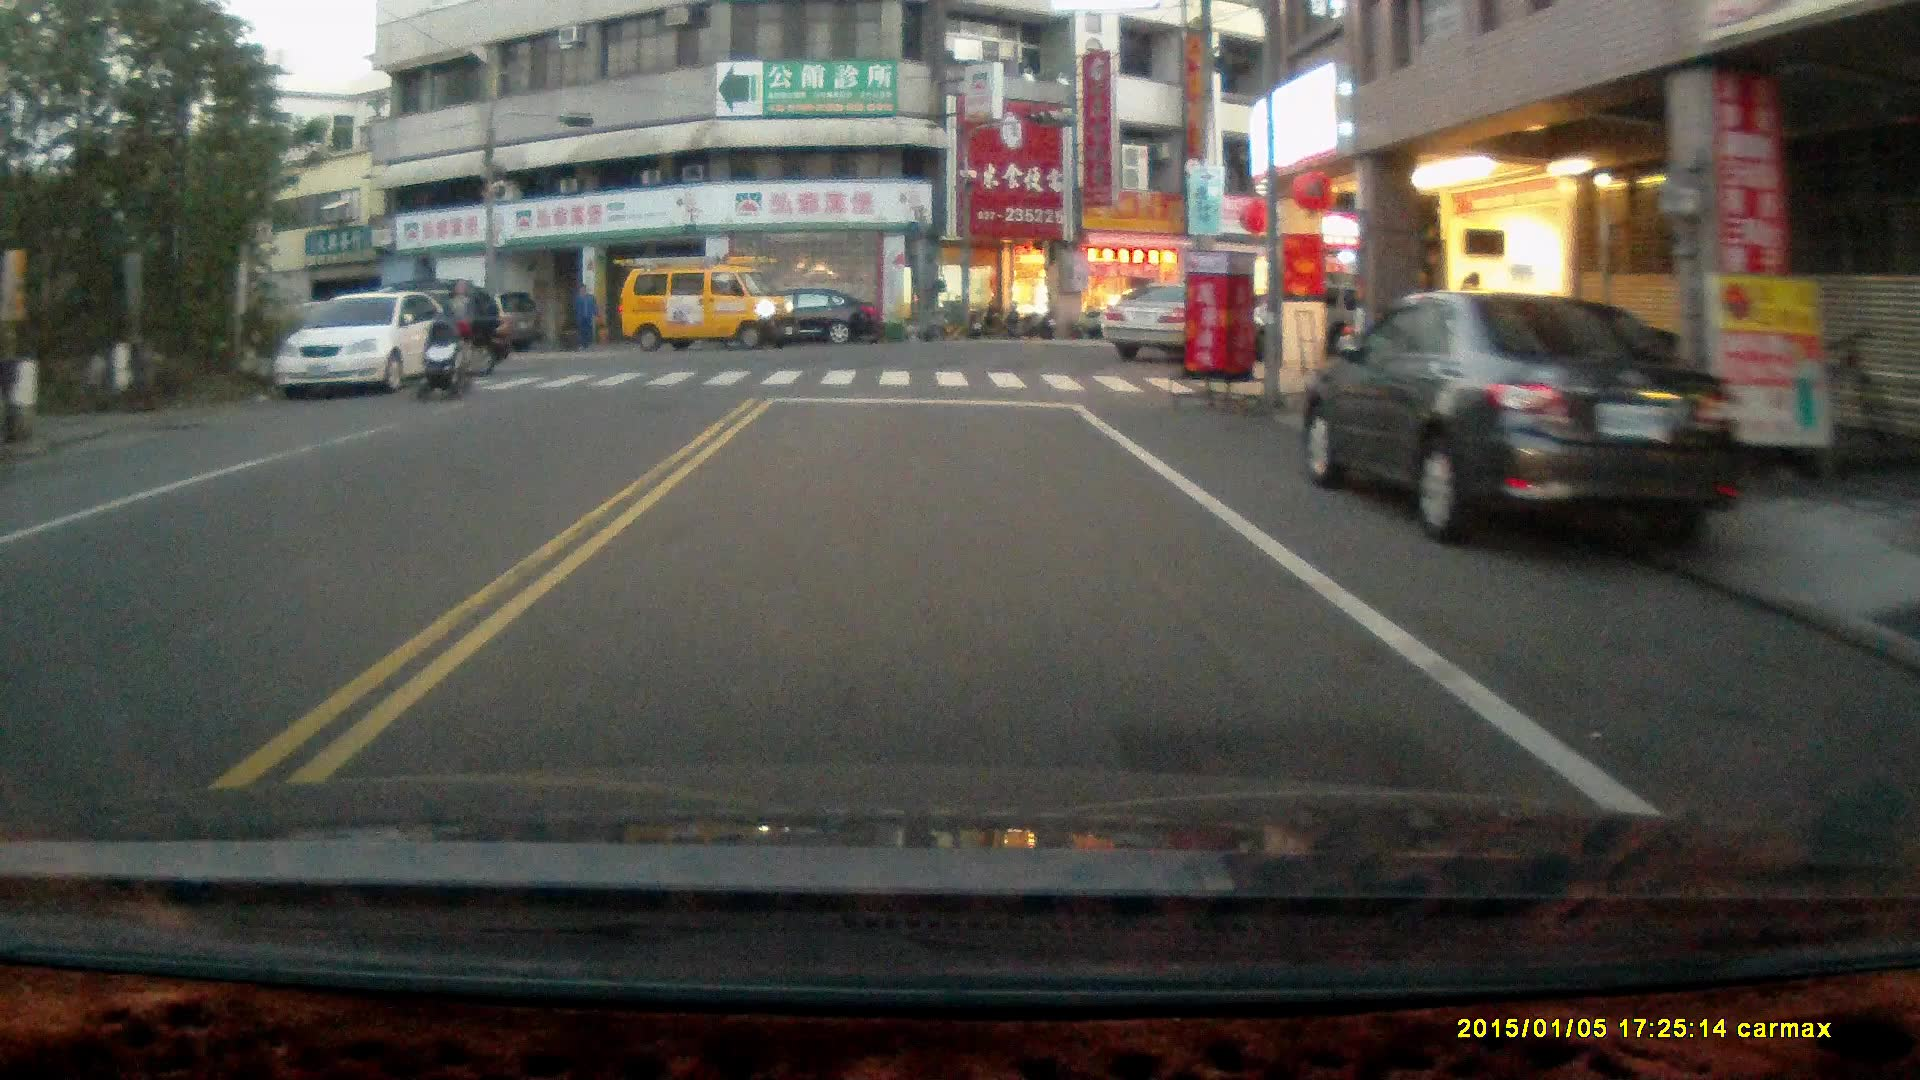pedestrian: (444, 276, 474, 376), (570, 282, 597, 349)
rider: (410, 318, 473, 401)
vehicle: (1303, 292, 1729, 552), (295, 279, 513, 379), (277, 290, 460, 400), (623, 254, 795, 349), (1100, 282, 1237, 362), (409, 286, 545, 361), (738, 287, 883, 352)
